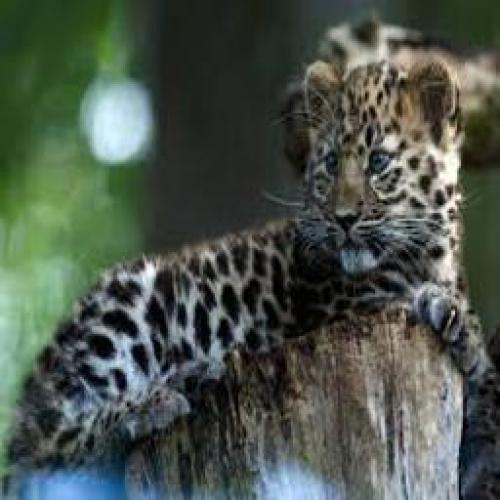amur_leopard-endangered: (8, 54, 500, 471)
